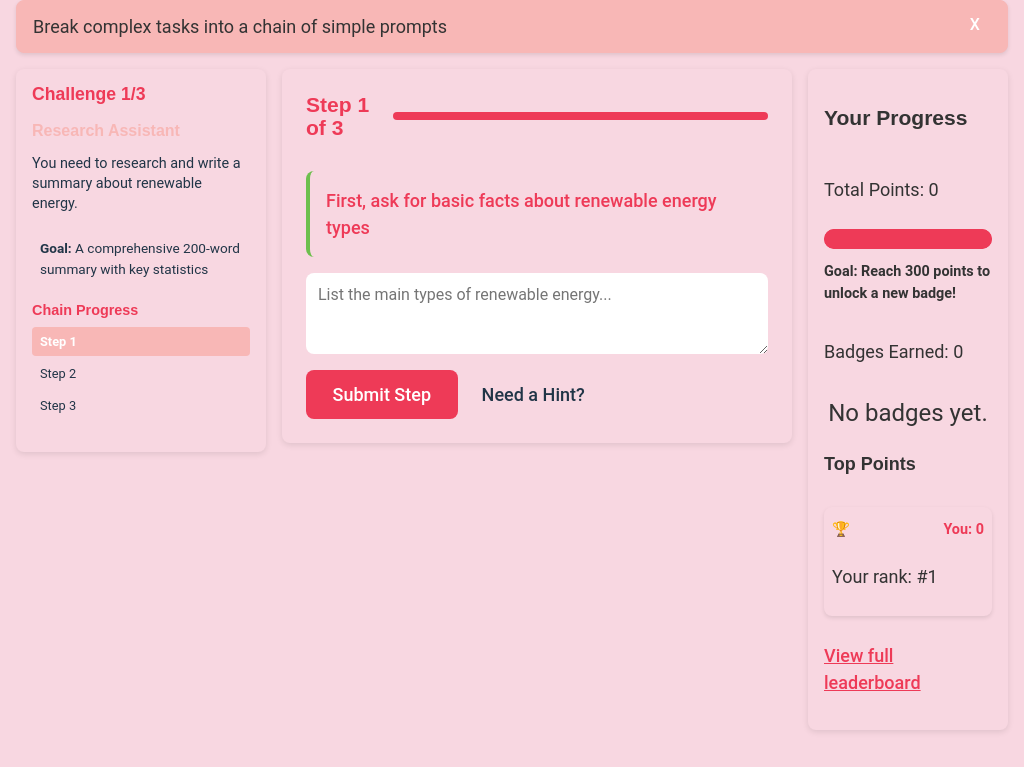
Test: PromptChainGame › shows feedback when user submits a correct prompt
In the text box: (537, 314) [306,273,768,354], type "List the main types of renewable energy sources and their basic definitions"
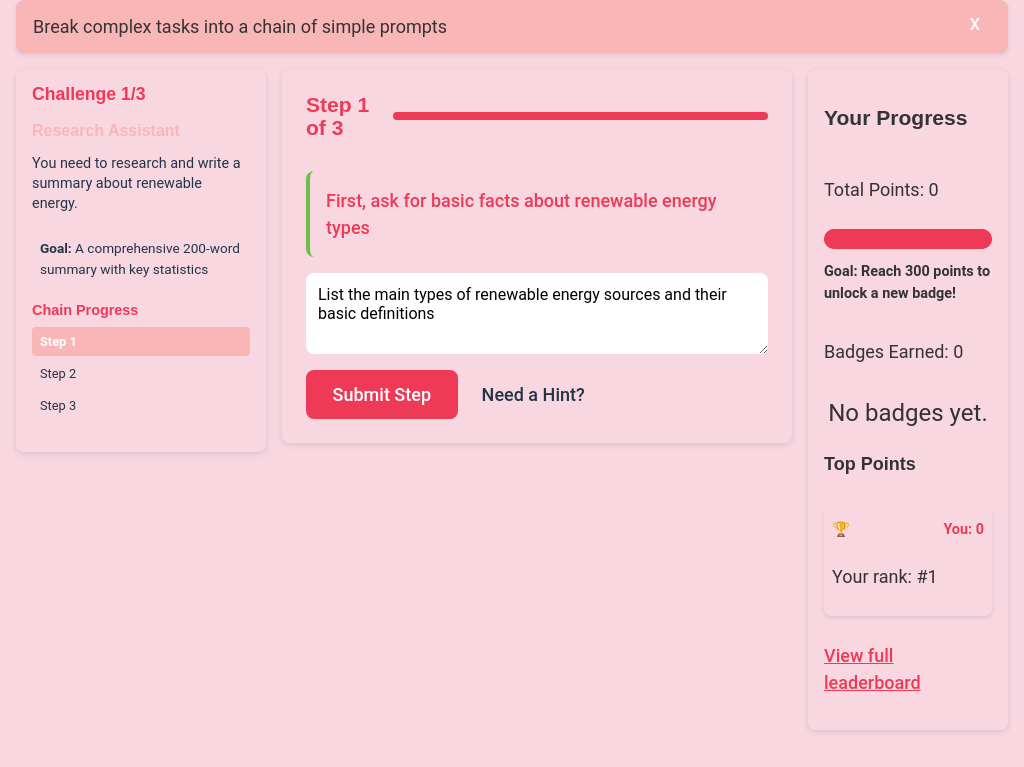
Click the button "Submit Step": (382, 395) [306,370,458,419]
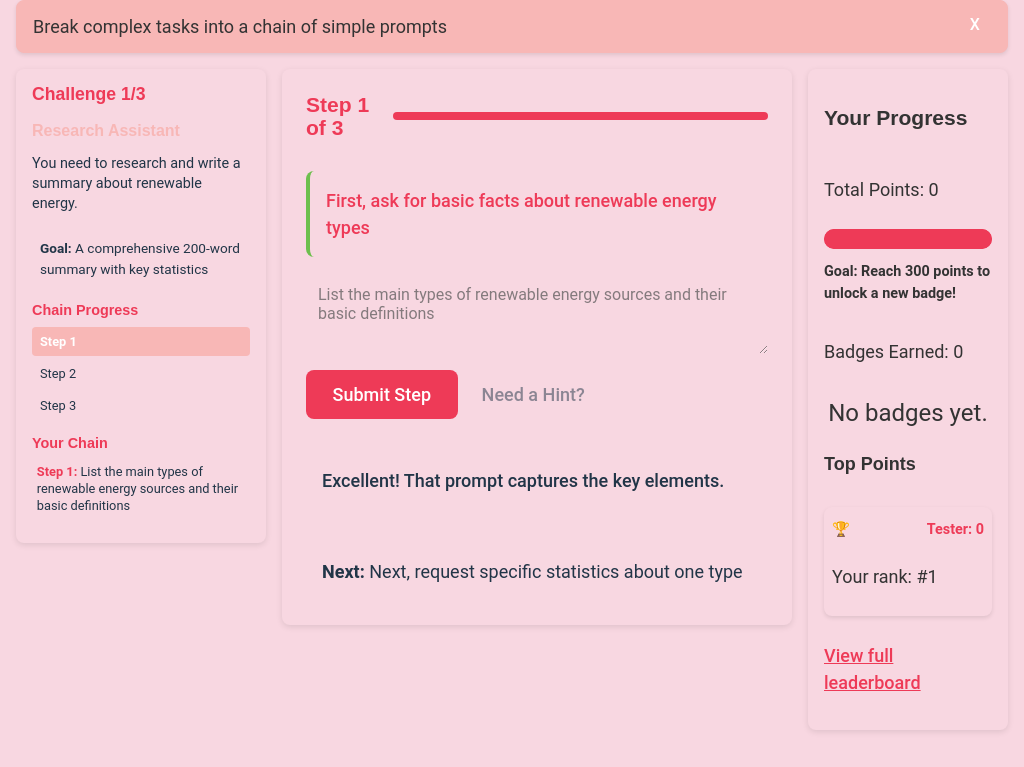
Now the text "Excellent! That prompt captures the key elements." is shown, box [322,470,724,491]
